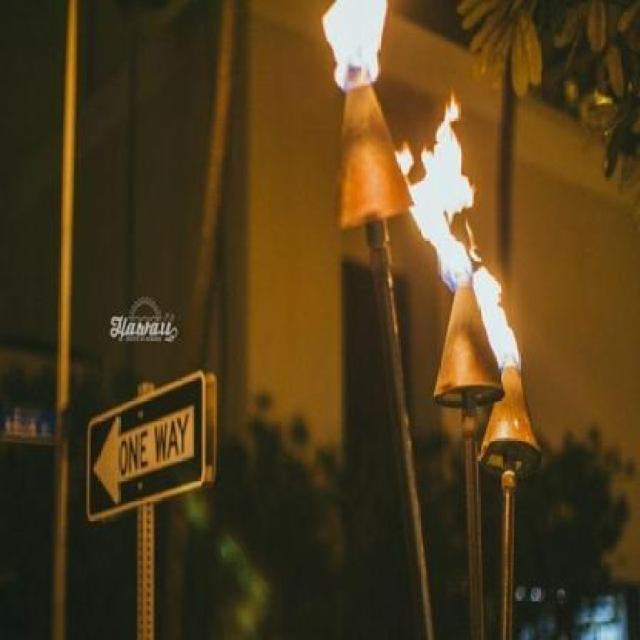Fire: (400, 95, 480, 278), (326, 2, 386, 92), (472, 278, 518, 368)
